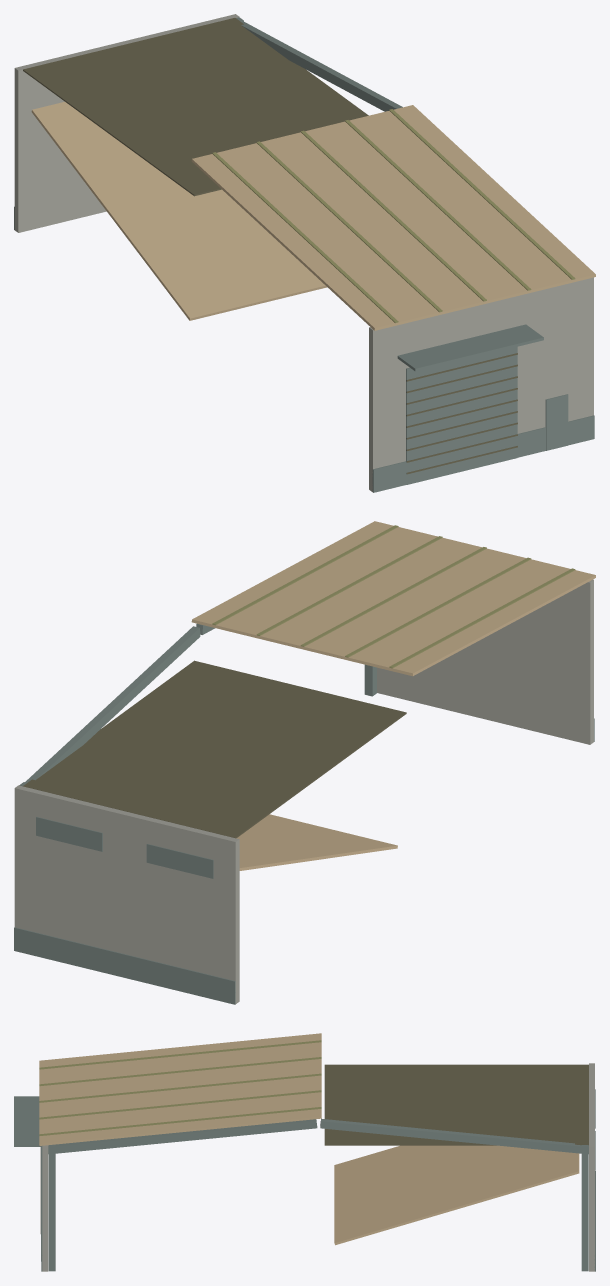
File: SM_NavePoligono_Modulo_e2_CubiertaHundida_LOD0.fbx
3 renders of one model, top to bottom at view 1: azimuth 30°, elevation 25°; view 2: azimuth 150°, elevation 25°; view 3: azimuth 270°, elevation 25°, orthographic. The views are drawn at different scales.
Visible parts, largest first — view 1: SM_nave_poligono_v2_LOD0; view 2: SM_nave_poligono_v2_LOD0; view 3: SM_nave_poligono_v2_LOD0.
Boxes of the visible parts, left/top/right/bottom form: SM_nave_poligono_v2_LOD0: left=14, top=14, right=595, bottom=492; SM_nave_poligono_v2_LOD0: left=14, top=521, right=595, bottom=1004; SM_nave_poligono_v2_LOD0: left=14, top=1033, right=595, bottom=1271.
Bounding box in the file's own units: 9.98 × 8.72 × 29.49.
